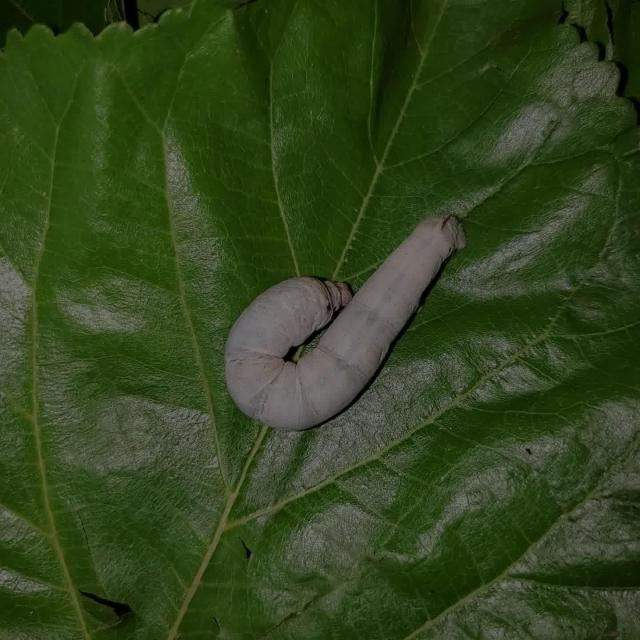Healthy: (193, 178, 492, 464)
